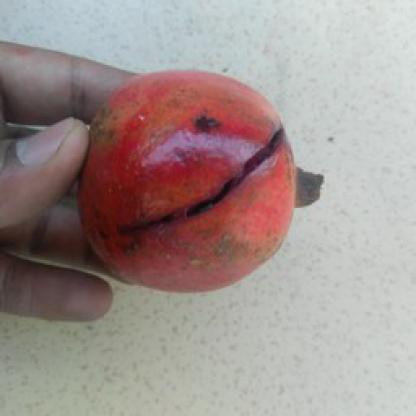pomegranate_rotten: (75, 67, 324, 292)
